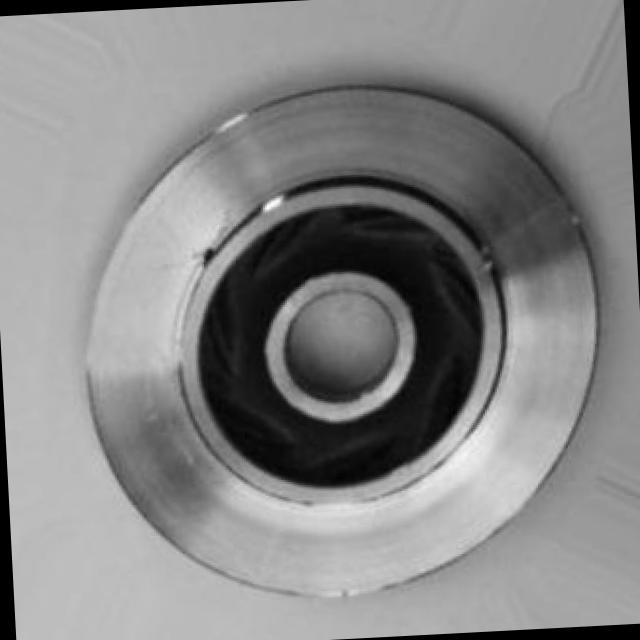Defect: (192, 234, 230, 273)
